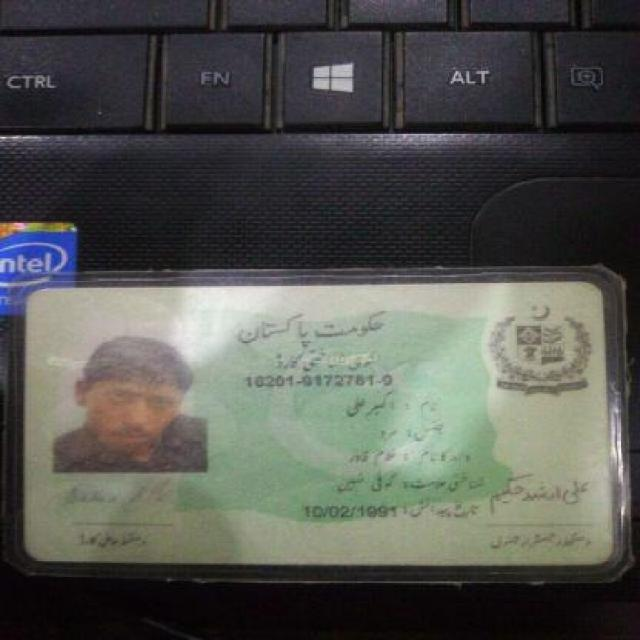Front: (16, 280, 624, 575)
